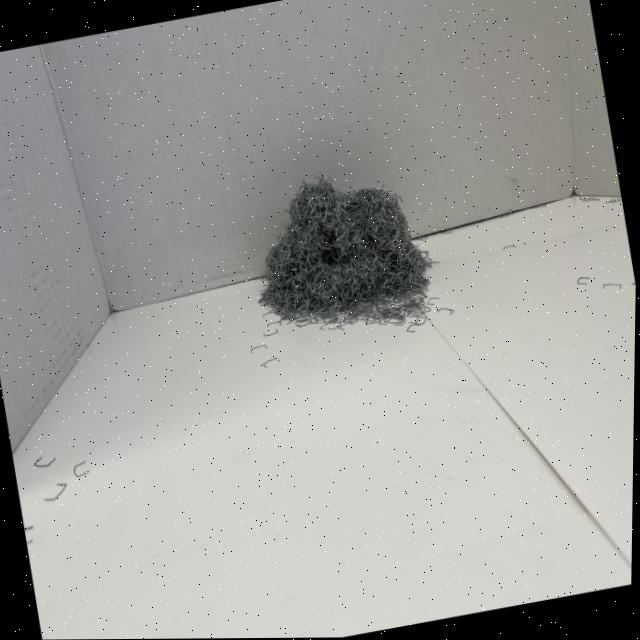staples: (237, 153, 442, 335)
